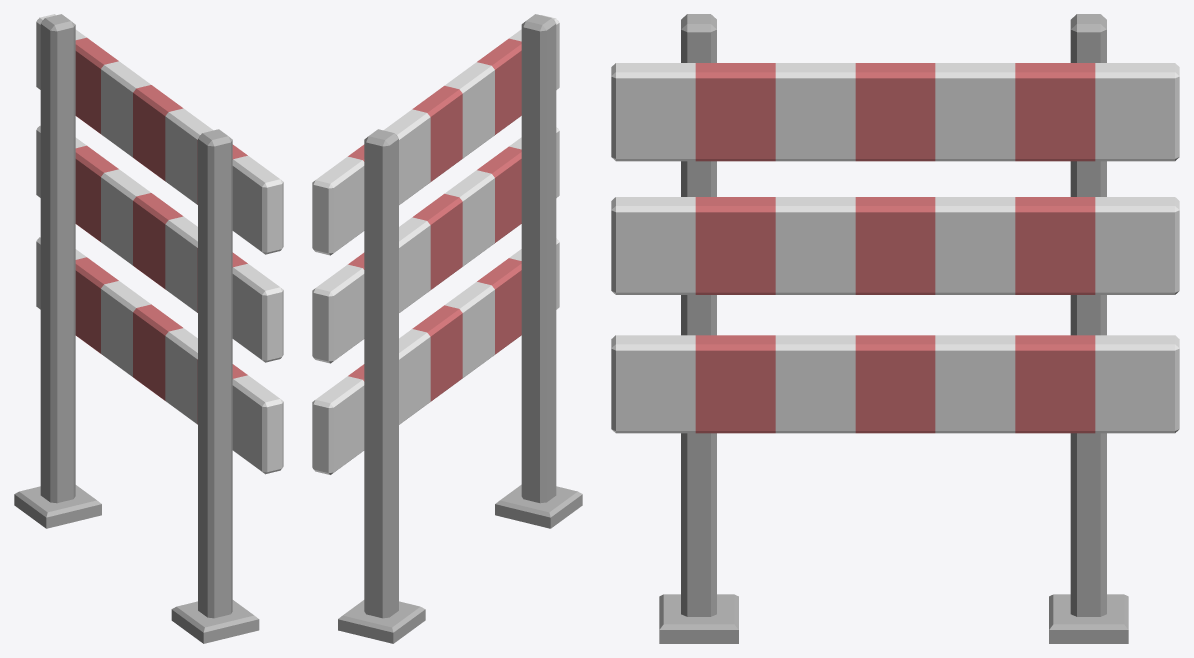
Rendered from Barrier D.glb.
3 views of the same model, side by side, from view 1: azimuth 30°, elevation 25°; view 2: azimuth 150°, elevation 25°; view 3: azimuth 270°, elevation 25° (orthographic). The views are drawn at different scales.
Parts seen in each view (by area): view 1: Barrier D; view 2: Barrier D; view 3: Barrier D.
Part boxes in pixels (x1,y1,x2,y2): Barrier D: (14, 14, 283, 643); Barrier D: (312, 14, 582, 643); Barrier D: (611, 14, 1179, 643).
Size of the model in its own units: 29.93 by 225 by 191.
